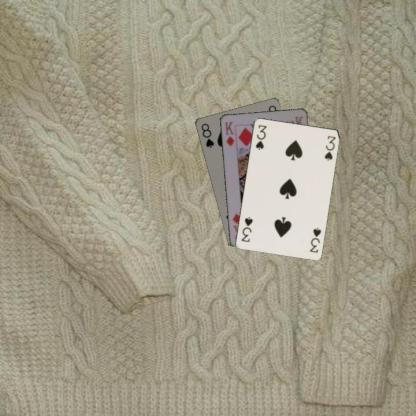3s: (252, 122, 268, 151), (307, 224, 322, 254)
8s: (198, 121, 215, 149)
Kd: (222, 119, 236, 147)
